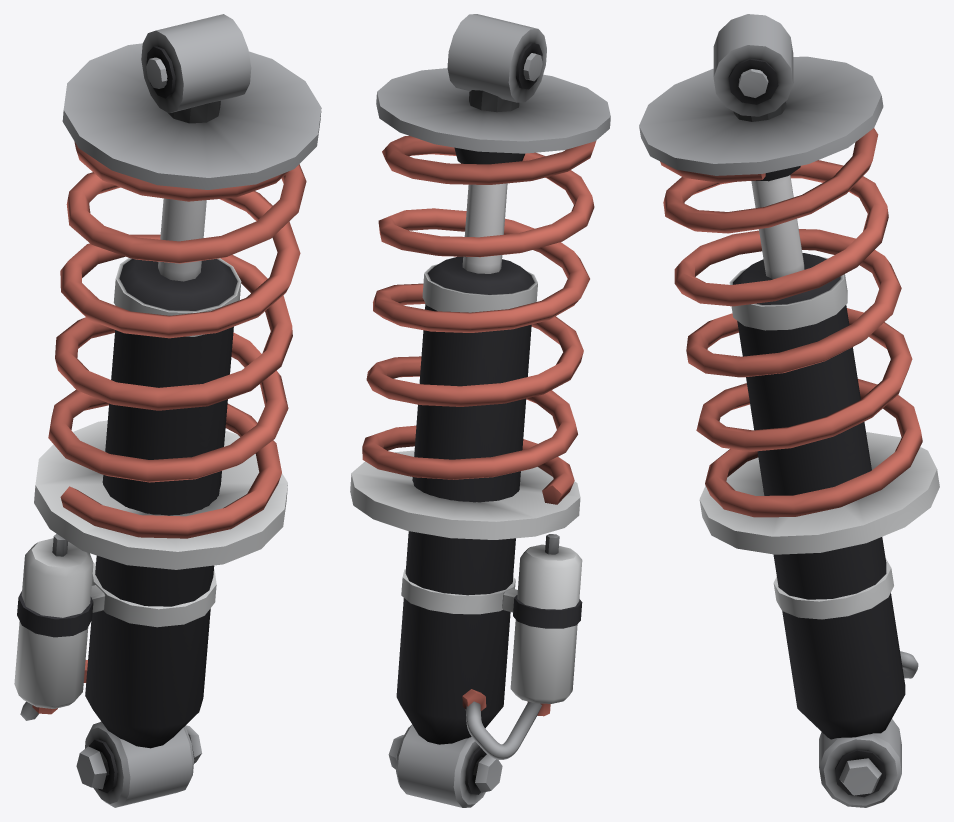
The model's file is susp_lift.glb.
3 renders of one model, left to right at view 1: azimuth 30°, elevation 25°; view 2: azimuth 150°, elevation 25°; view 3: azimuth 270°, elevation 25°, orthographic. The views are drawn at different scales.
Visible parts, largest first — view 1: PART; view 2: PART; view 3: PART.
Part boxes in pixels (x1,y1,x2,y2): PART: [14, 14, 321, 807]; PART: [350, 14, 610, 807]; PART: [639, 14, 939, 807].
Size of the model in its own units: 0.1587 by 0.506 by 0.1805.
